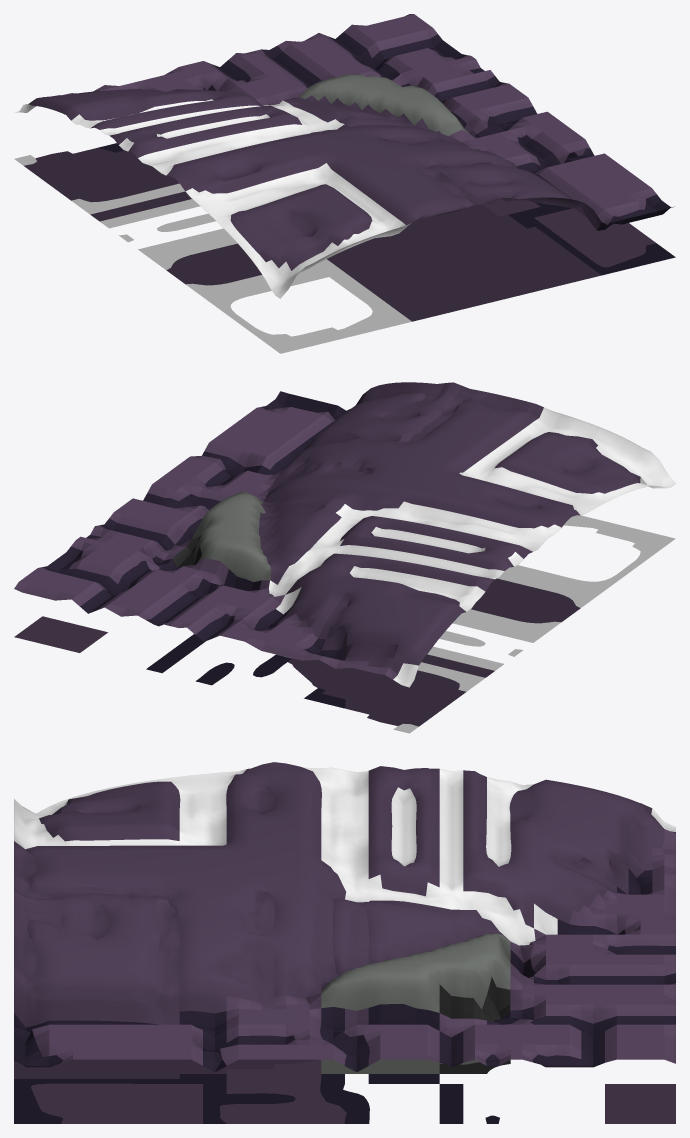
File: delbld-hull-563.glb
The picture shows the model from 3 angles, top to bottom: view 1: azimuth 30°, elevation 25°; view 2: azimuth 150°, elevation 25°; view 3: azimuth 270°, elevation 25°; orthographic projection. The views are drawn at different scales.
Parts seen in each view (by area): view 1: delbld-hull-563; view 2: delbld-hull-563; view 3: delbld-hull-563.
Part boxes in pixels (x1,y1,x2,y2): delbld-hull-563: (14,14,675,353); delbld-hull-563: (14,382,675,733); delbld-hull-563: (14,762,675,1123).
Size of the model in its own units: 2 by 0.4925 by 2.33.
6 materials, 6 textured.
